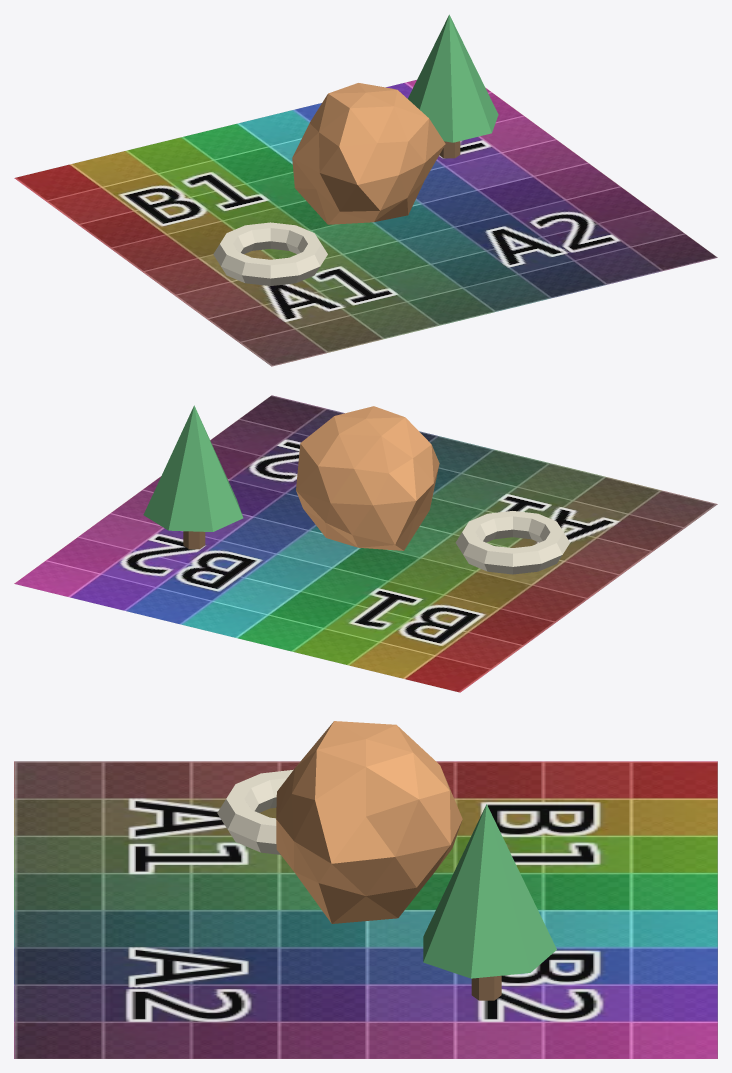
3 views of the same model, one above another, from view 1: azimuth 30°, elevation 25°; view 2: azimuth 150°, elevation 25°; view 3: azimuth 270°, elevation 25° (orthographic). The views are drawn at different scales.
Parts seen in each view (by area): view 1: Ground, Rock, Leaves, Ring; view 2: Ground, Rock, Leaves, Ring; view 3: Ground, Rock, Leaves, Ring, Trunk.
Boxes of the visible parts, bbox=[...] form: Ground: bbox=[14, 80, 717, 366]; Rock: bbox=[292, 83, 445, 224]; Leaves: bbox=[408, 14, 498, 142]; Ring: bbox=[213, 222, 327, 285]; Ground: bbox=[14, 395, 717, 692]; Rock: bbox=[296, 406, 439, 550]; Leaves: bbox=[143, 405, 243, 531]; Ring: bbox=[455, 511, 570, 574]; Ground: bbox=[14, 761, 717, 1058]; Rock: bbox=[276, 721, 462, 923]; Leaves: bbox=[423, 804, 556, 978]; Ring: bbox=[217, 769, 293, 854]; Trunk: bbox=[471, 975, 501, 1000].
Size of the model in its own units: 7 by 2.1 by 7.
5 materials, 1 textured.
